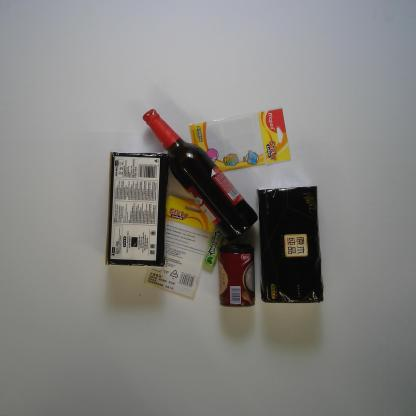Alcohol: (141, 107, 259, 242)
Canned Food: (218, 243, 256, 309)
Gum: (201, 226, 224, 269)
Stationery: (143, 195, 216, 301), (188, 107, 291, 174)
Tissue: (255, 185, 325, 304), (104, 150, 170, 267)
